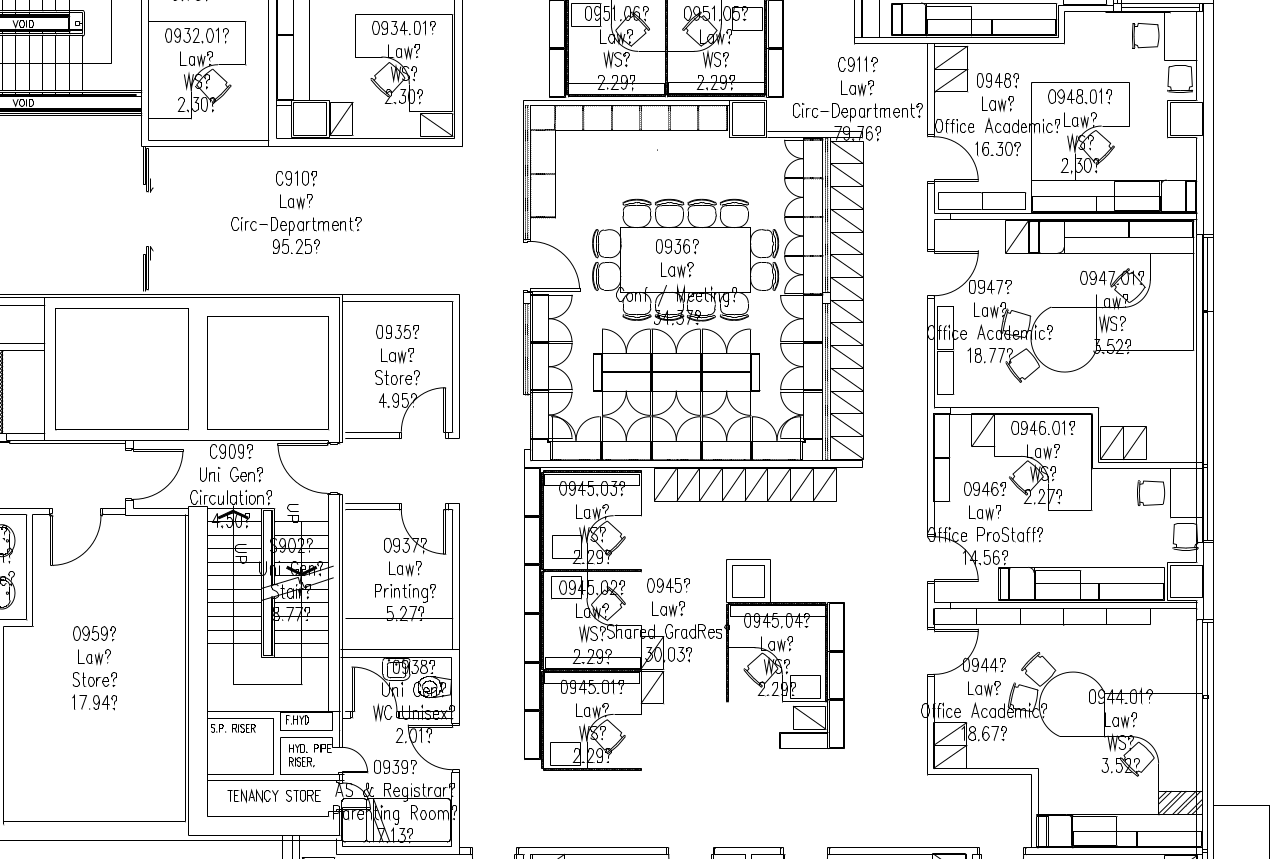door: (43, 515, 104, 575), (522, 233, 583, 293), (928, 531, 981, 590), (398, 379, 451, 438), (395, 504, 448, 563), (274, 440, 327, 499), (133, 443, 186, 502), (346, 661, 399, 720), (929, 132, 979, 189), (931, 241, 981, 298), (932, 626, 982, 683), (339, 739, 372, 780)
